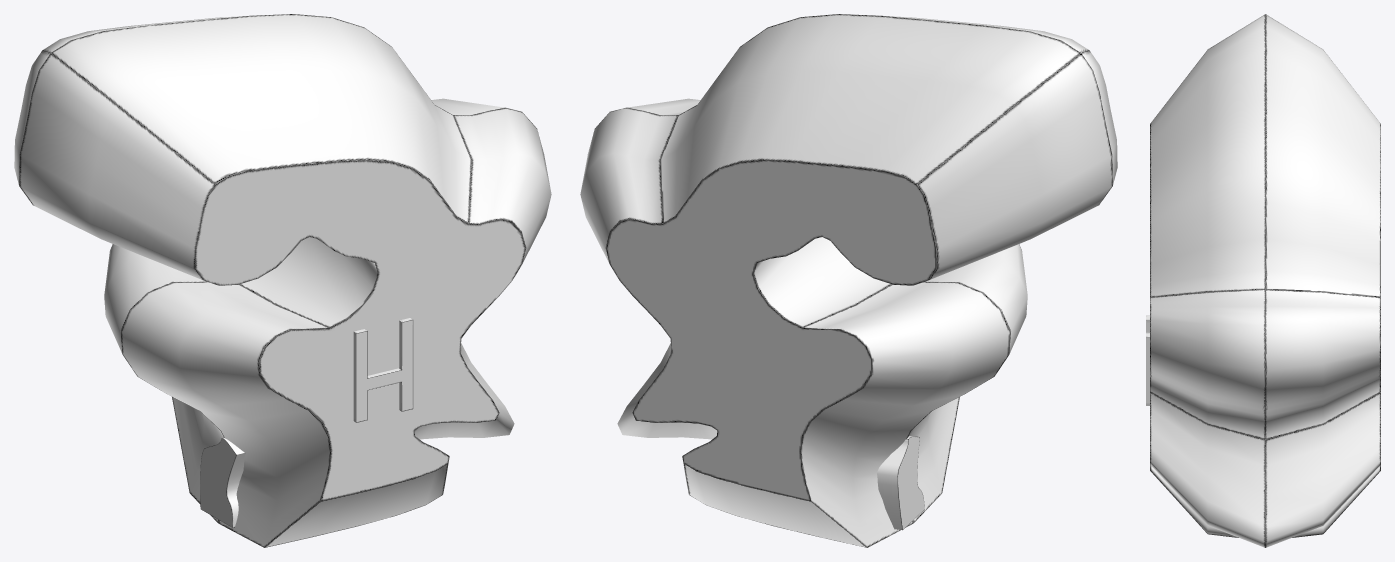
The model's file is hospital.FBX.
3 views of the same model, side by side, from view 1: azimuth 30°, elevation 25°; view 2: azimuth 150°, elevation 25°; view 3: azimuth 270°, elevation 25° (orthographic). The views are drawn at different scales.
Parts seen in each view (by area): view 1: Line017, Line019, Line018; view 2: Line017, Line018; view 3: Line017, Line019.
Part boxes in pixels (x1=…): Line017: x1=14, y1=14, x2=551, y2=547; Line019: x1=353, y1=318, x2=413, y2=422; Line018: x1=200, y1=437, x2=245, y2=527; Line017: x1=580, y1=14, x2=1117, y2=547; Line018: x1=877, y1=436, x2=924, y2=530; Line017: x1=1150, y1=14, x2=1380, y2=547; Line019: x1=1146, y1=315, x2=1149, y2=405.
Bounding box in the file's own units: 922 × 879 × 463.
